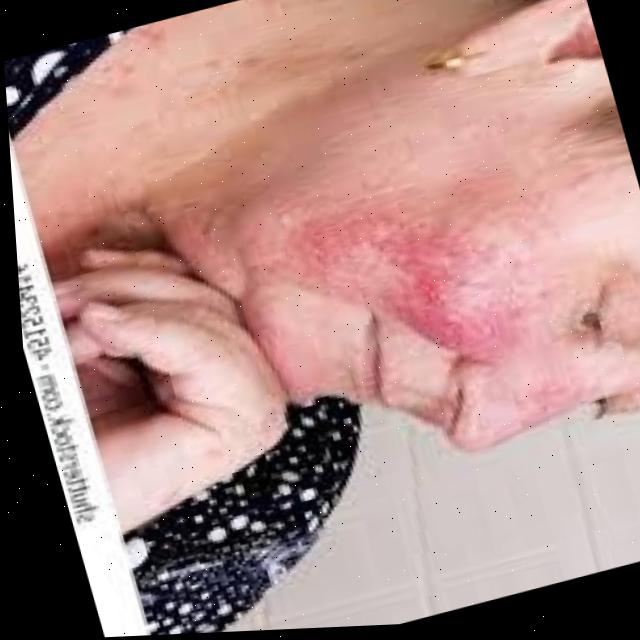Rosacea: (316, 165, 521, 366)
